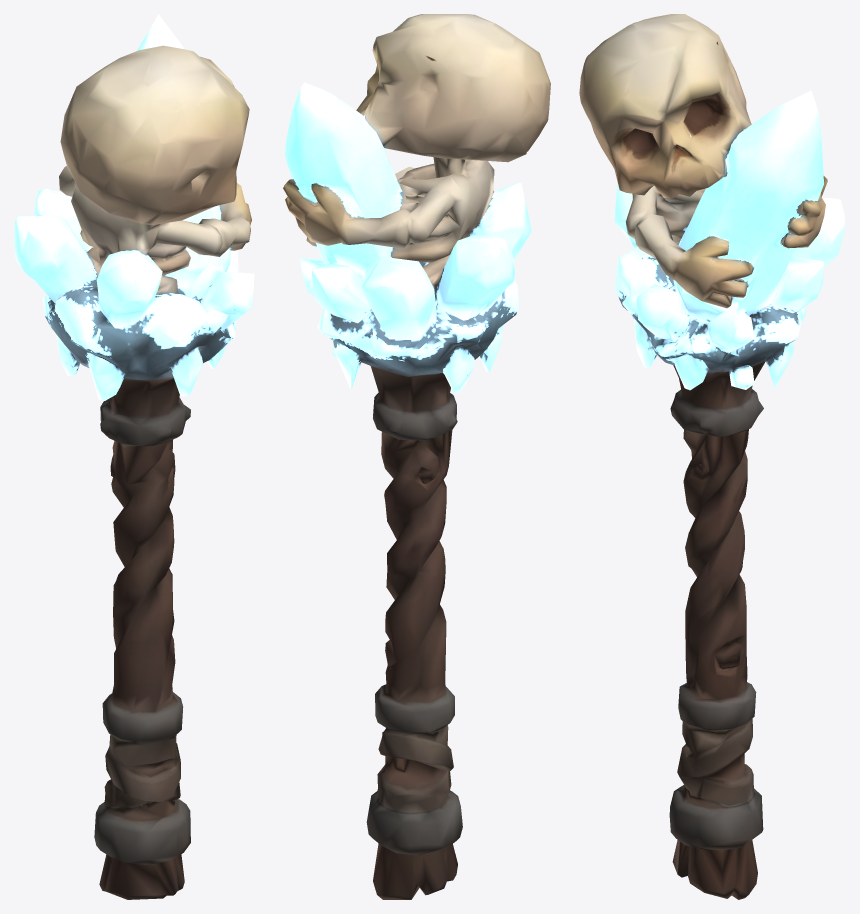
Rendered from LichToy_Staff-DFCj3lzd.glb.
The picture shows the model from 3 angles, left to right: view 1: azimuth 30°, elevation 25°; view 2: azimuth 150°, elevation 25°; view 3: azimuth 270°, elevation 25°; orthographic projection.
Parts seen in each view (by area): view 1: tripo_node_8500b774-5068-447c-9d53-3537c74a1f17; view 2: tripo_node_8500b774-5068-447c-9d53-3537c74a1f17; view 3: tripo_node_8500b774-5068-447c-9d53-3537c74a1f17.
Boxes of the visible parts, bbox=[...] form: tripo_node_8500b774-5068-447c-9d53-3537c74a1f17: bbox=[14, 14, 254, 899]; tripo_node_8500b774-5068-447c-9d53-3537c74a1f17: bbox=[283, 14, 550, 899]; tripo_node_8500b774-5068-447c-9d53-3537c74a1f17: bbox=[579, 14, 845, 899].
Size of the model in its own units: 0.57 by 2.2 by 0.6171.
1 material, 1 textured.
